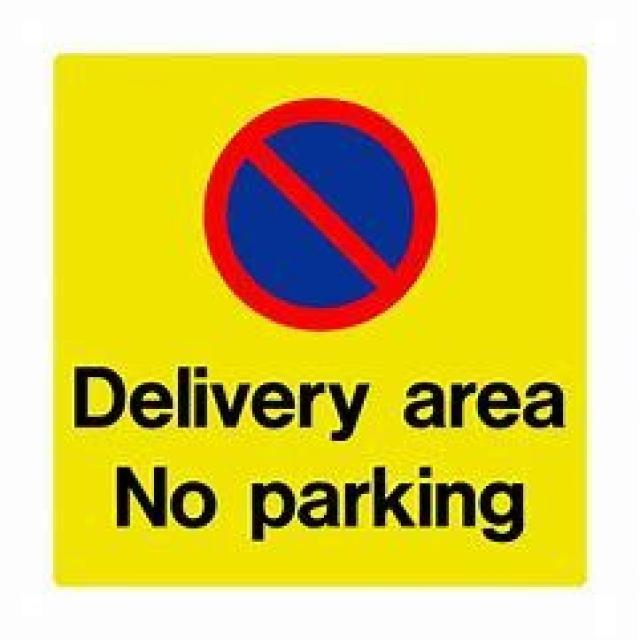do_not_enter: (202, 93, 435, 327)
